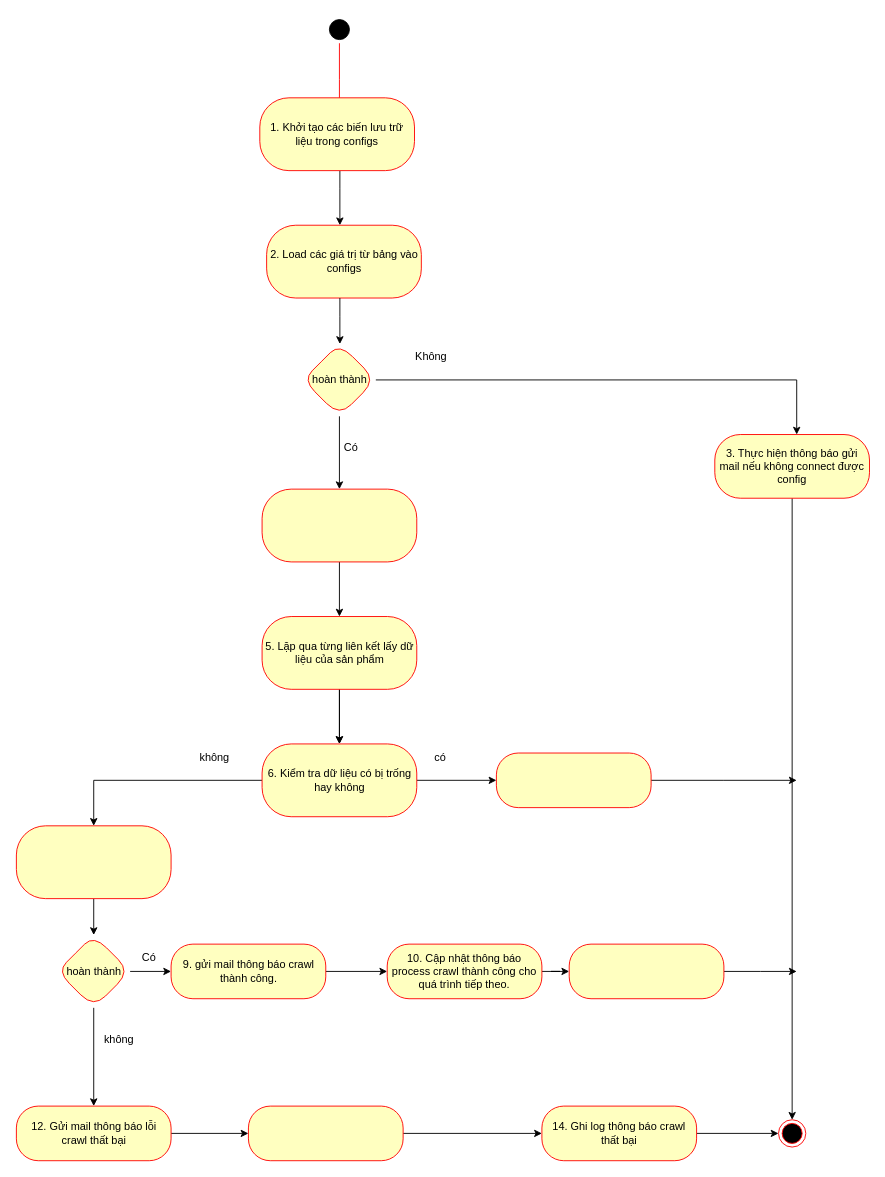
This 885x1177 diagram has some shape labels left out. The shapes that lost their labels are listed below. From the top down, each one's box as (x1, y1, x2, y2) in pixels, then its label:
(261, 488, 417, 562): 4. Duyệt qua các liên kết
(495, 752, 651, 808): 7. Ghi log thông báo dữ liệu bị trống
(15, 825, 171, 899): 8. Lưu dữ liệu vào file csv
(568, 943, 724, 999): 11. Ghi log thông báo crawl thành công.
(248, 1105, 403, 1161): 13. Cập nhật thông báo process crawl thất bại
